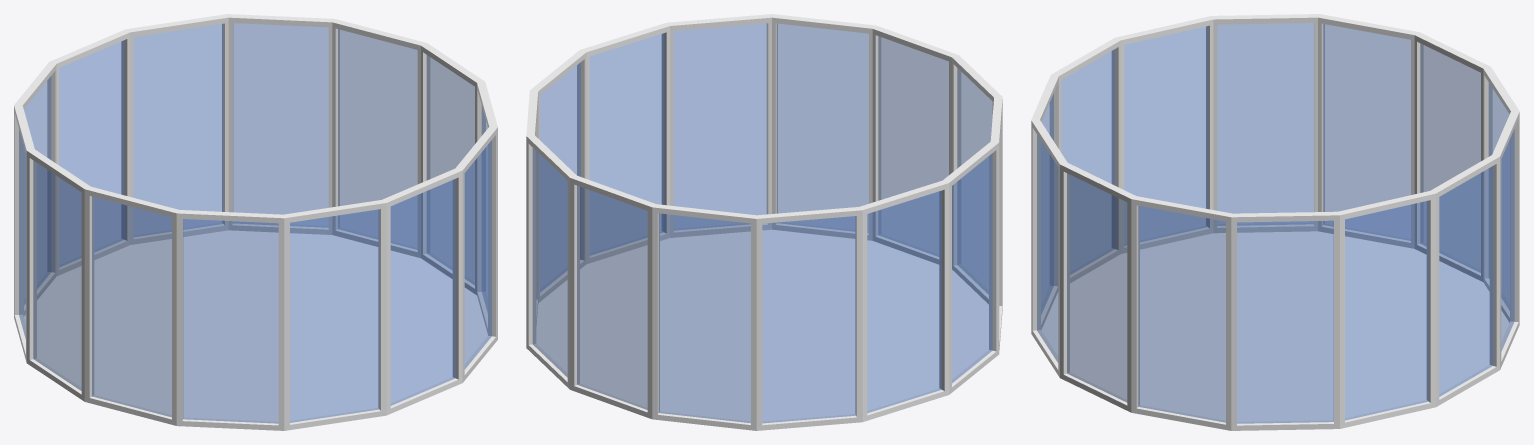
Rendered from Room Glass Panels.fbx.
The picture shows the model from 3 angles, left to right: view 1: azimuth 30°, elevation 25°; view 2: azimuth 150°, elevation 25°; view 3: azimuth 270°, elevation 25°; orthographic projection.
Parts seen in each view (by area): view 1: Group12, Group18, Group39, Group21, Group9, Group6, Group36, Group15, Group3, Group33, Group42, Group10 (+16 smaller); view 2: Group24, Group15, Group42, Group36, Group27, Group21, Group30, Group39, Group3, Group18, Group33, Group12 (+14 smaller); view 3: Group33, Group3, Group30, Group6, Group27, Group9, Group42, Group18, Group24, Group12, Group28, Group4 (+16 smaller).
Boxes of the visible parts, x1,y1,x2,y2 form: Group12: [183, 219, 278, 423]; Group18: [233, 23, 328, 227]; Group39: [290, 209, 379, 422]; Group21: [133, 24, 223, 236]; Group9: [92, 196, 171, 417]; Group6: [338, 29, 417, 249]; Group36: [390, 179, 455, 405]; Group15: [59, 40, 124, 266]; Group3: [33, 160, 81, 390]; Group33: [426, 55, 474, 284]; Group42: [464, 140, 491, 368]; Group10: [176, 210, 284, 430]; Group24: [762, 216, 855, 423]; Group15: [659, 213, 750, 423]; Group42: [673, 23, 767, 230]; Group36: [777, 23, 868, 232]; Group27: [867, 190, 941, 412]; Group21: [577, 186, 647, 409]; Group30: [589, 33, 664, 255]; Group39: [878, 36, 948, 256]; Group3: [952, 153, 992, 382]; Group18: [532, 148, 567, 377]; Group33: [540, 62, 580, 291]; Group12: [957, 68, 992, 294]; Group33: [1237, 220, 1333, 423]; Group3: [1217, 23, 1313, 225]; Group30: [1138, 206, 1225, 422]; Group6: [1345, 201, 1428, 420]; Group27: [1323, 24, 1410, 240]; Group9: [1124, 26, 1207, 245]; Group42: [1067, 173, 1127, 402]; Group18: [1439, 166, 1493, 396]; Group24: [1420, 43, 1480, 272]; Group12: [1061, 49, 1114, 274]; Group28: [1131, 196, 1233, 430]; Group4: [1336, 190, 1435, 428].
Bounding box in the file's own units: 430 × 211 × 436.
